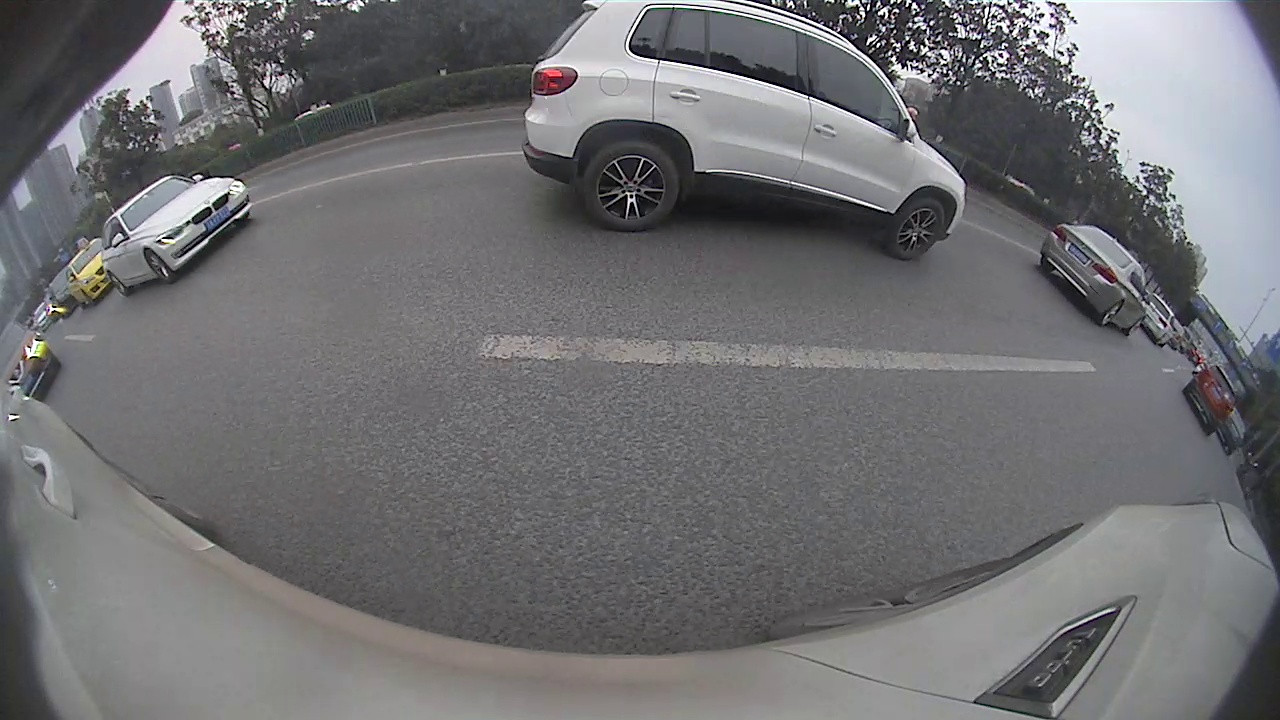car: (521, 0, 969, 262), (100, 175, 253, 298), (1040, 222, 1149, 336), (1, 319, 60, 405), (1182, 364, 1238, 437), (63, 238, 115, 310), (1142, 291, 1178, 349)
front: (886, 195, 946, 262), (146, 248, 176, 283)
rear: (581, 140, 682, 230), (1099, 301, 1126, 329), (109, 272, 129, 296)
